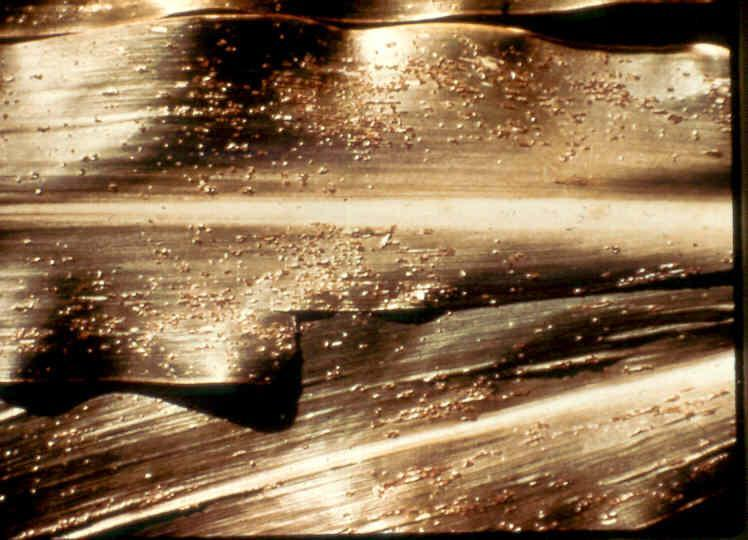Corn_Common_Rust: (0, 0, 744, 540)
